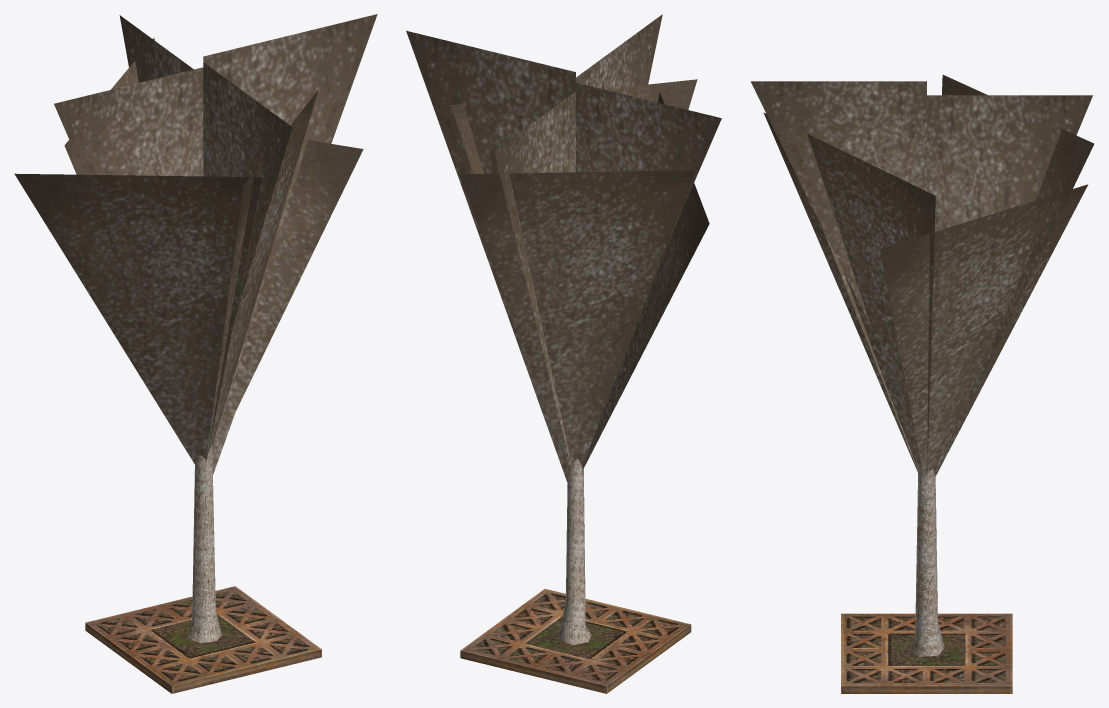
Rendered from tree3b_base.fbx.
The picture shows the model from 3 angles, left to right: view 1: azimuth 30°, elevation 25°; view 2: azimuth 150°, elevation 25°; view 3: azimuth 270°, elevation 25°; orthographic projection. The views are drawn at different scales.
Parts seen in each view (by area): view 1: mesh_2, mesh_0, mesh_1; view 2: mesh_2, mesh_0, mesh_1; view 3: mesh_2, mesh_0, mesh_1.
Part boxes in pixels (box(x1,y1,x2,y2)): mesh_2: box(14, 14, 377, 474); mesh_0: box(85, 586, 321, 693); mesh_1: box(187, 175, 221, 643); mesh_2: box(406, 14, 721, 482); mesh_0: box(460, 589, 691, 693); mesh_1: box(558, 458, 591, 645); mesh_2: box(750, 75, 1093, 480); mesh_0: box(841, 613, 1012, 693); mesh_1: box(910, 190, 944, 656).
Size of the model in its own units: 449 by 748 by 401.
3 materials, 3 textured.
